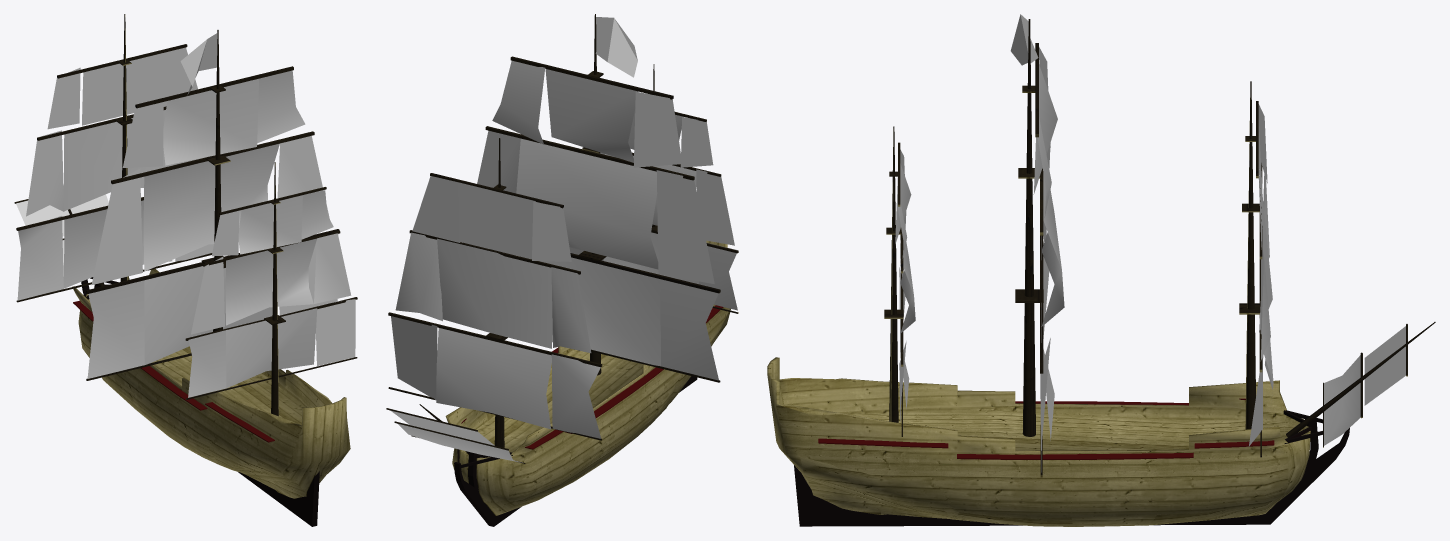
Rendered from Ship.gltf.
The picture shows the model from 3 angles, left to right: view 1: azimuth 30°, elevation 25°; view 2: azimuth 150°, elevation 25°; view 3: azimuth 270°, elevation 25°; orthographic projection. The views are drawn at different scales.
Parts seen in each view (by area): view 1: Mesh.005, Mesh, Mesh.004, Mesh.002, Mesh.001, Mesh.003; view 2: Mesh.005, Mesh, Mesh.004, Mesh.003, Mesh.002, Mesh.001; view 3: Mesh, Mesh.005, Mesh.004, Mesh.002, Mesh.001, Mesh.003.
Boxes of the visible parts, x1,y1,x2,y2 form: Mesh.005: (16,47,355,397); Mesh: (72,268,350,498); Mesh.004: (14,14,357,416); Mesh.002: (81,277,319,526); Mesh.001: (73,300,274,442); Mesh.003: (180,33,217,95); Mesh.005: (390,60,737,462); Mesh: (445,240,730,515); Mesh.004: (386,14,738,463); Mesh.003: (595,17,637,77); Mesh.002: (454,376,697,526); Mesh.001: (461,305,723,449); Mesh: (767,357,1310,526); Mesh.005: (895,47,1405,472); Mesh.004: (884,19,1435,477); Mesh.002: (794,410,1349,526); Mesh.001: (818,398,1274,459); Mesh.003: (1010,14,1038,65).
Bounding box in the file's own units: 26.66 × 42.98 × 51.47.
